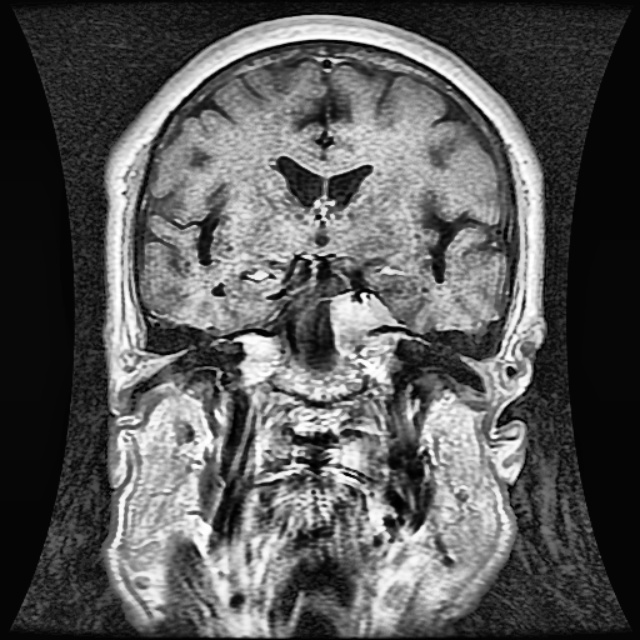Glioma: (328, 290, 398, 362)
